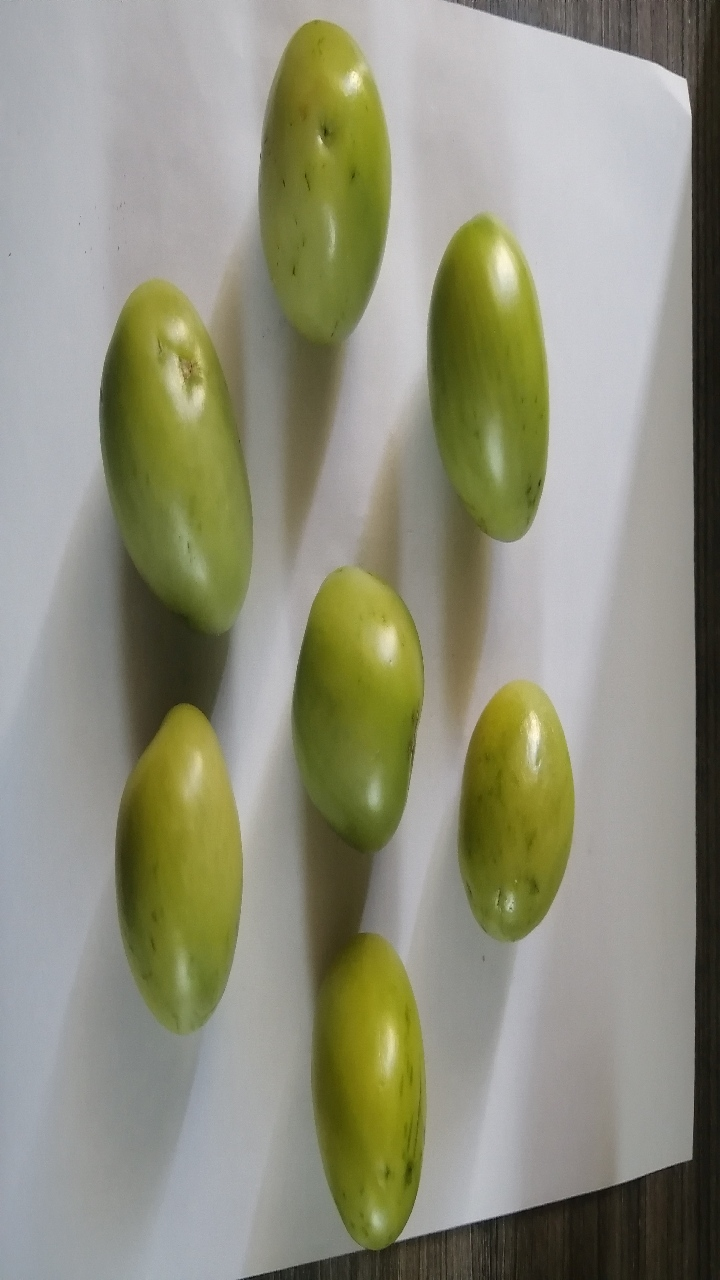tomateVerde: (75, 266, 275, 637), (100, 672, 274, 1068), (277, 911, 458, 1263), (280, 537, 448, 894), (243, 6, 409, 359), (421, 197, 586, 548), (437, 645, 584, 957)
